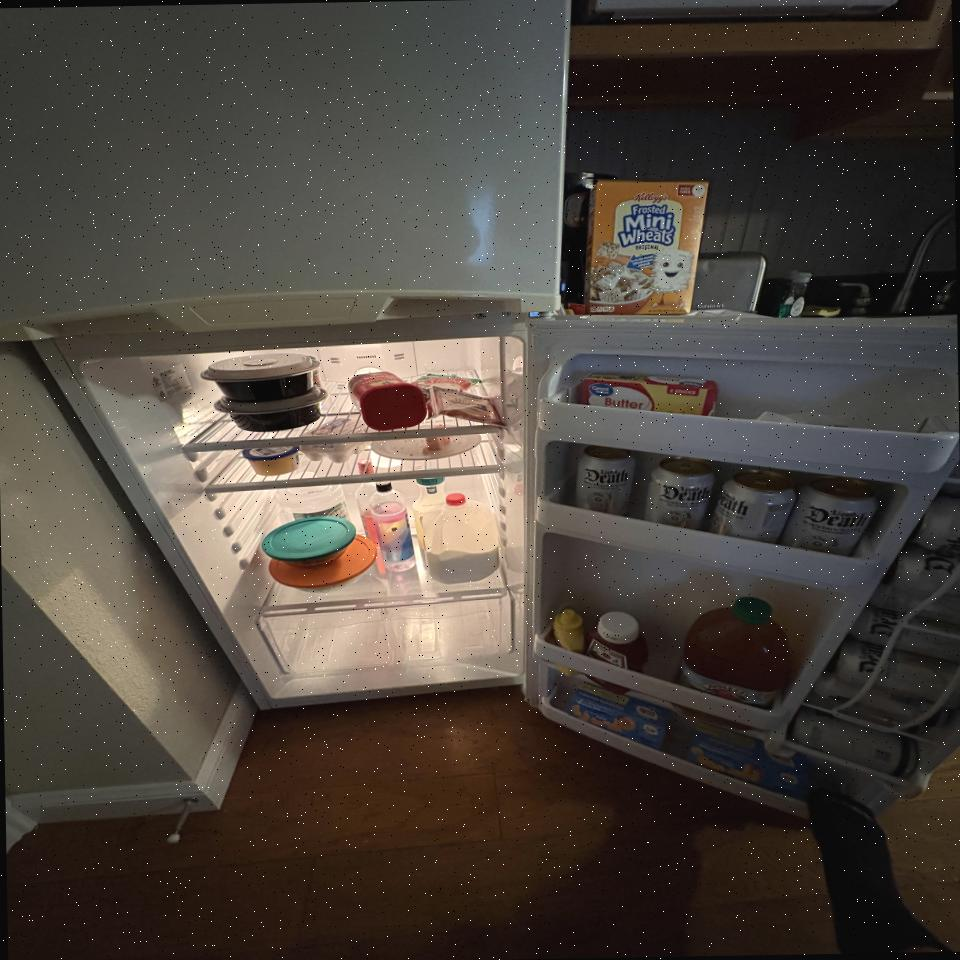Huevos: (298, 419, 370, 464)
Leche: (425, 494, 501, 584)
Mantequilla: (584, 370, 716, 420)
ketchup: (586, 612, 646, 694)
mustard: (554, 610, 586, 676)
